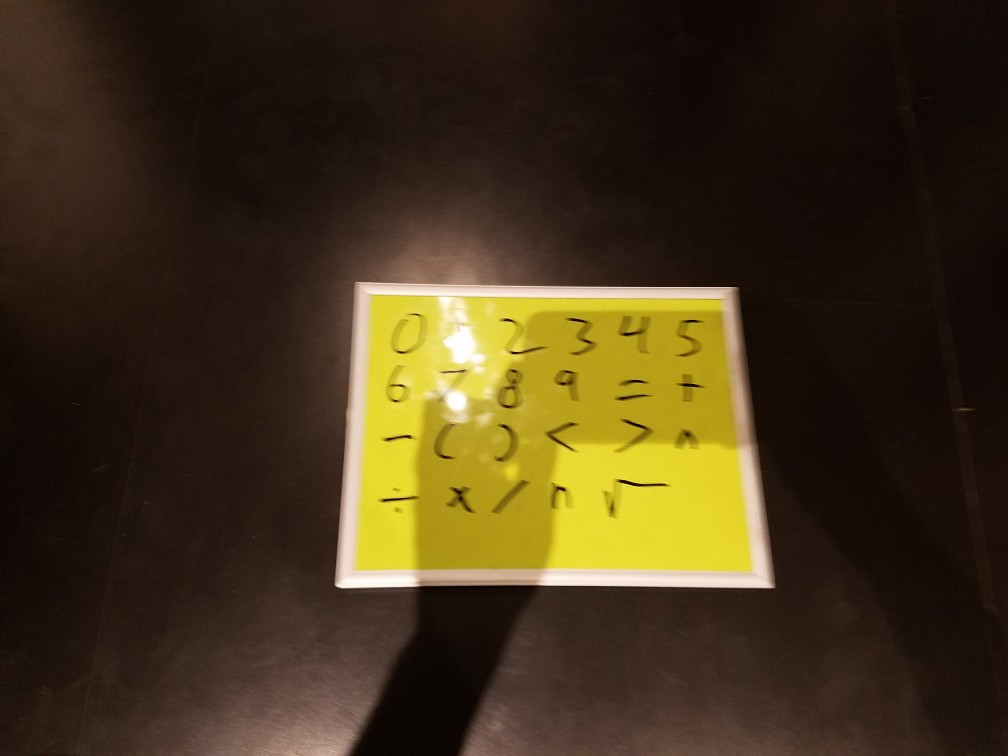(: (427, 415, 462, 470)
): (491, 417, 520, 471)
+: (670, 366, 711, 412)
-: (374, 424, 417, 454)
/: (487, 476, 529, 521)
0: (383, 305, 429, 360)
1: (450, 306, 473, 353)
2: (492, 310, 544, 362)
3: (564, 309, 603, 360)
4: (618, 309, 651, 360)
5: (669, 310, 706, 364)
6: (377, 363, 413, 416)
7: (434, 363, 465, 410)
8: (495, 366, 522, 416)
9: (550, 362, 587, 409)
<: (545, 413, 581, 457)
=: (604, 369, 656, 410)
>: (610, 413, 651, 462)
^: (669, 424, 706, 460)
div: (374, 477, 416, 518)
n: (547, 476, 579, 512)
sqrt: (595, 466, 685, 532)
x: (445, 475, 475, 520)
